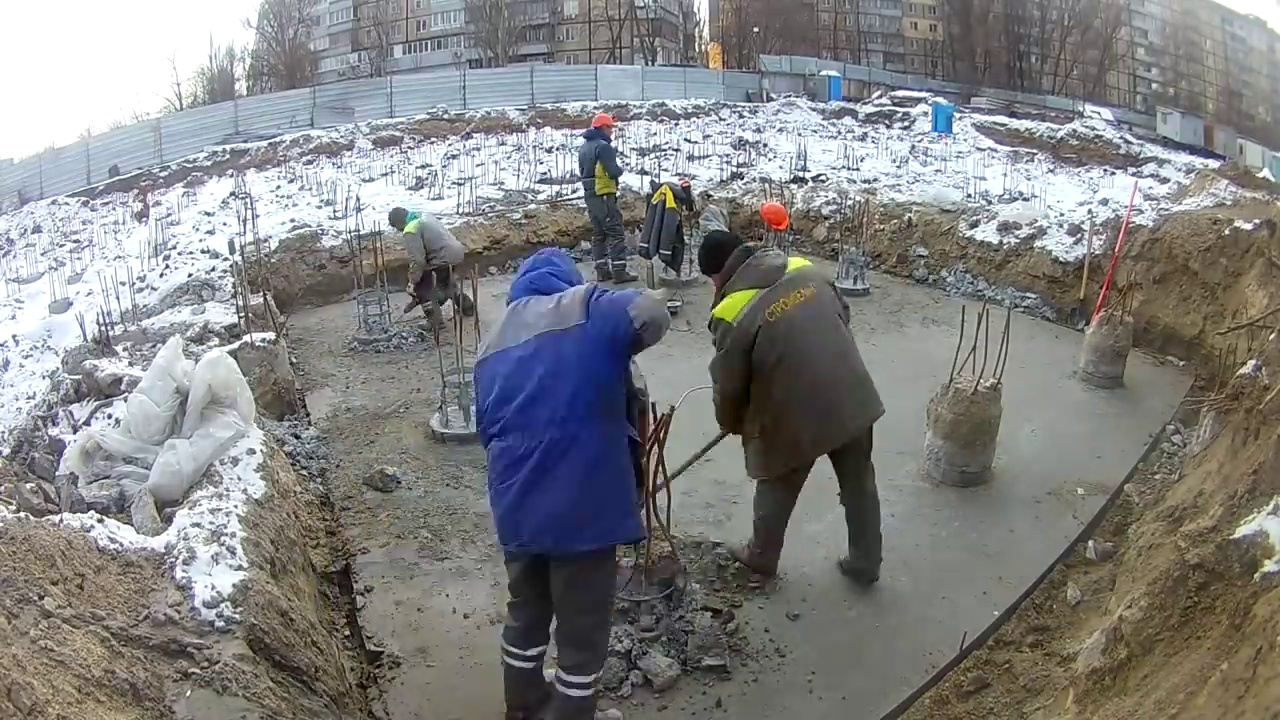helmet: (760, 203, 791, 232), (590, 113, 617, 129)
helmet-off: (507, 247, 584, 310), (698, 231, 765, 294), (388, 205, 421, 233)
helmet-on: (584, 110, 618, 146)
person: (472, 247, 671, 720), (696, 219, 887, 592), (386, 203, 478, 334), (573, 110, 638, 285)
